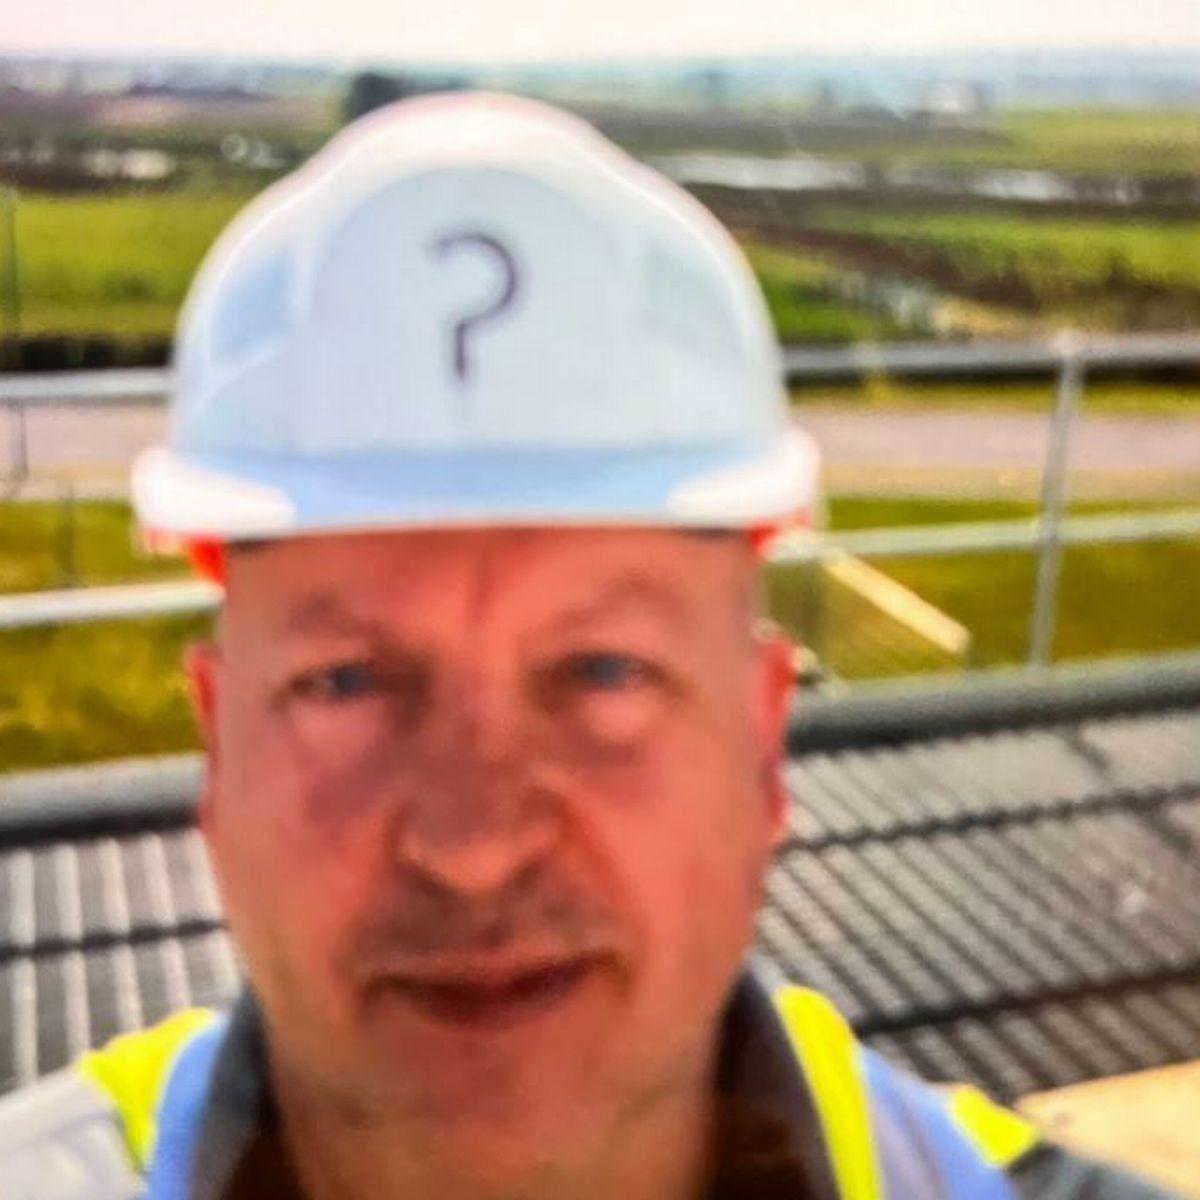helmet: (132, 96, 834, 538)
